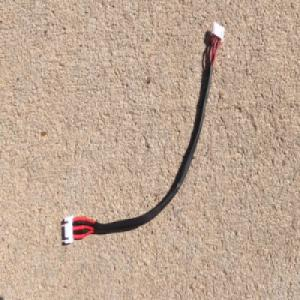Wire: (62, 20, 225, 246)
